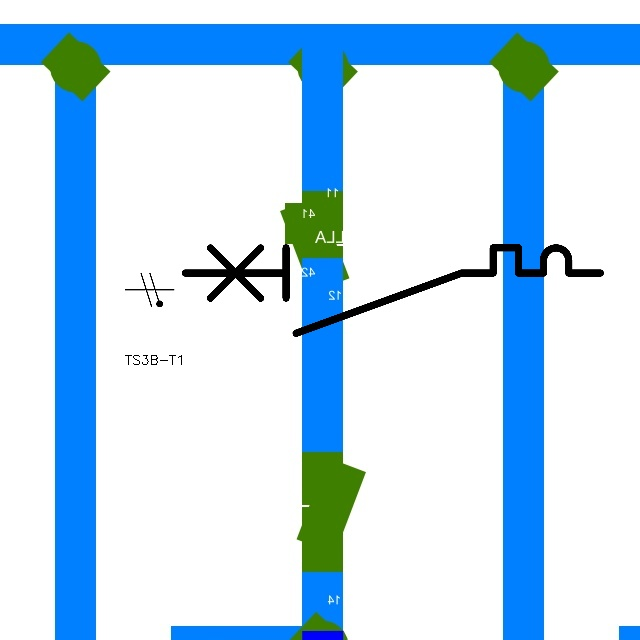interruptor_termomagnetico: (174, 237, 610, 344)
